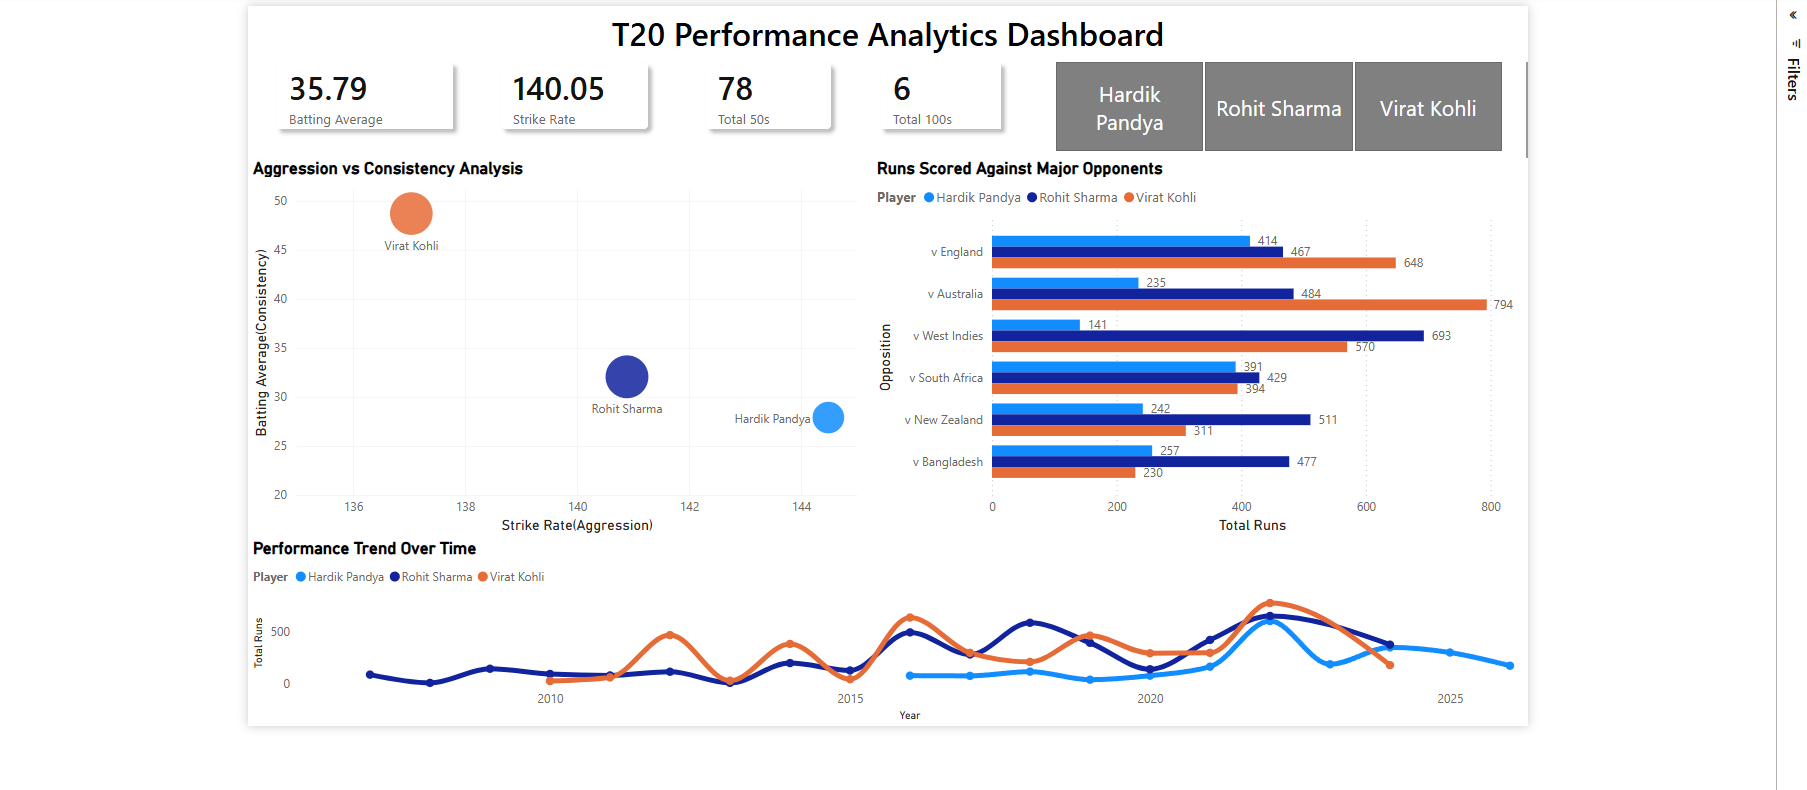

This screenshot's page, from the dashboard's own definition file:
{"tool":"powerbi","page":{"name":"Page 1","canvas":[1280,720],"ordinal":0},"visuals":[{"type":"cardVisual","fields":{"Data":["Sheet1.Batting Average"]},"box":[0,28,234,124],"z":0},{"type":"cardVisual","fields":{"Data":["Sheet1.Strike Rate"]},"box":[224,28,205,124],"z":1000},{"type":"cardVisual","fields":{"Data":["Sheet1.Total 50s"]},"box":[429,28,183,124],"z":2000},{"type":"cardVisual","fields":{"Data":["Sheet1.Total 100s"]},"box":[604,28,178,124],"z":3000},{"type":"lineChart","title":"Performance Trend Over Time","fields":{"Category":["Sheet1.Year"],"Y":["Sheet1.Total Runs"],"Series":["Sheet1.Player"]},"box":[0,532,1280,188],"z":4000},{"type":"clusteredBarChart","title":"Runs Scored Against Major Opponents","fields":{"Category":["Sheet1.Opposition"],"Y":["Sheet1.Total Runs"],"Series":["Sheet1.Player"]},"box":[624,152,656,380],"z":5000},{"type":"slicer","fields":{"Values":["Sheet1.Player"]},"box":[782,49,496,103],"z":6000},{"type":"scatterChart","title":"Aggression vs Consistency Analysis","fields":{"X":["Sheet1.Strike Rate"],"Y":["Sheet1.Batting Average"],"Size":["Sheet1.Total Runs"],"Category":["Sheet1.Player"]},"box":[0,152,624,380],"z":7000},{"type":"textbox","box":[0,0,1280,56],"z":7001}]}

Visuals, with their boxes on the page's 1280x720 design canvas (x1, y1, x2, y2). These are canvas units, not pixel positions in the 1807x790 screenshot, which may show the page scaled, cropped or inside an application window:
cardVisual - Sheet1.Batting Average: <box>0,28,234,152</box>
cardVisual - Sheet1.Strike Rate: <box>224,28,429,152</box>
cardVisual - Sheet1.Total 50s: <box>429,28,612,152</box>
cardVisual - Sheet1.Total 100s: <box>604,28,782,152</box>
"Performance Trend Over Time" lineChart: <box>0,532,1280,720</box>
"Runs Scored Against Major Opponents" clusteredBarChart: <box>624,152,1280,532</box>
slicer - Sheet1.Player: <box>782,49,1278,152</box>
"Aggression vs Consistency Analysis" scatterChart: <box>0,152,624,532</box>
textbox: <box>0,0,1280,56</box>
